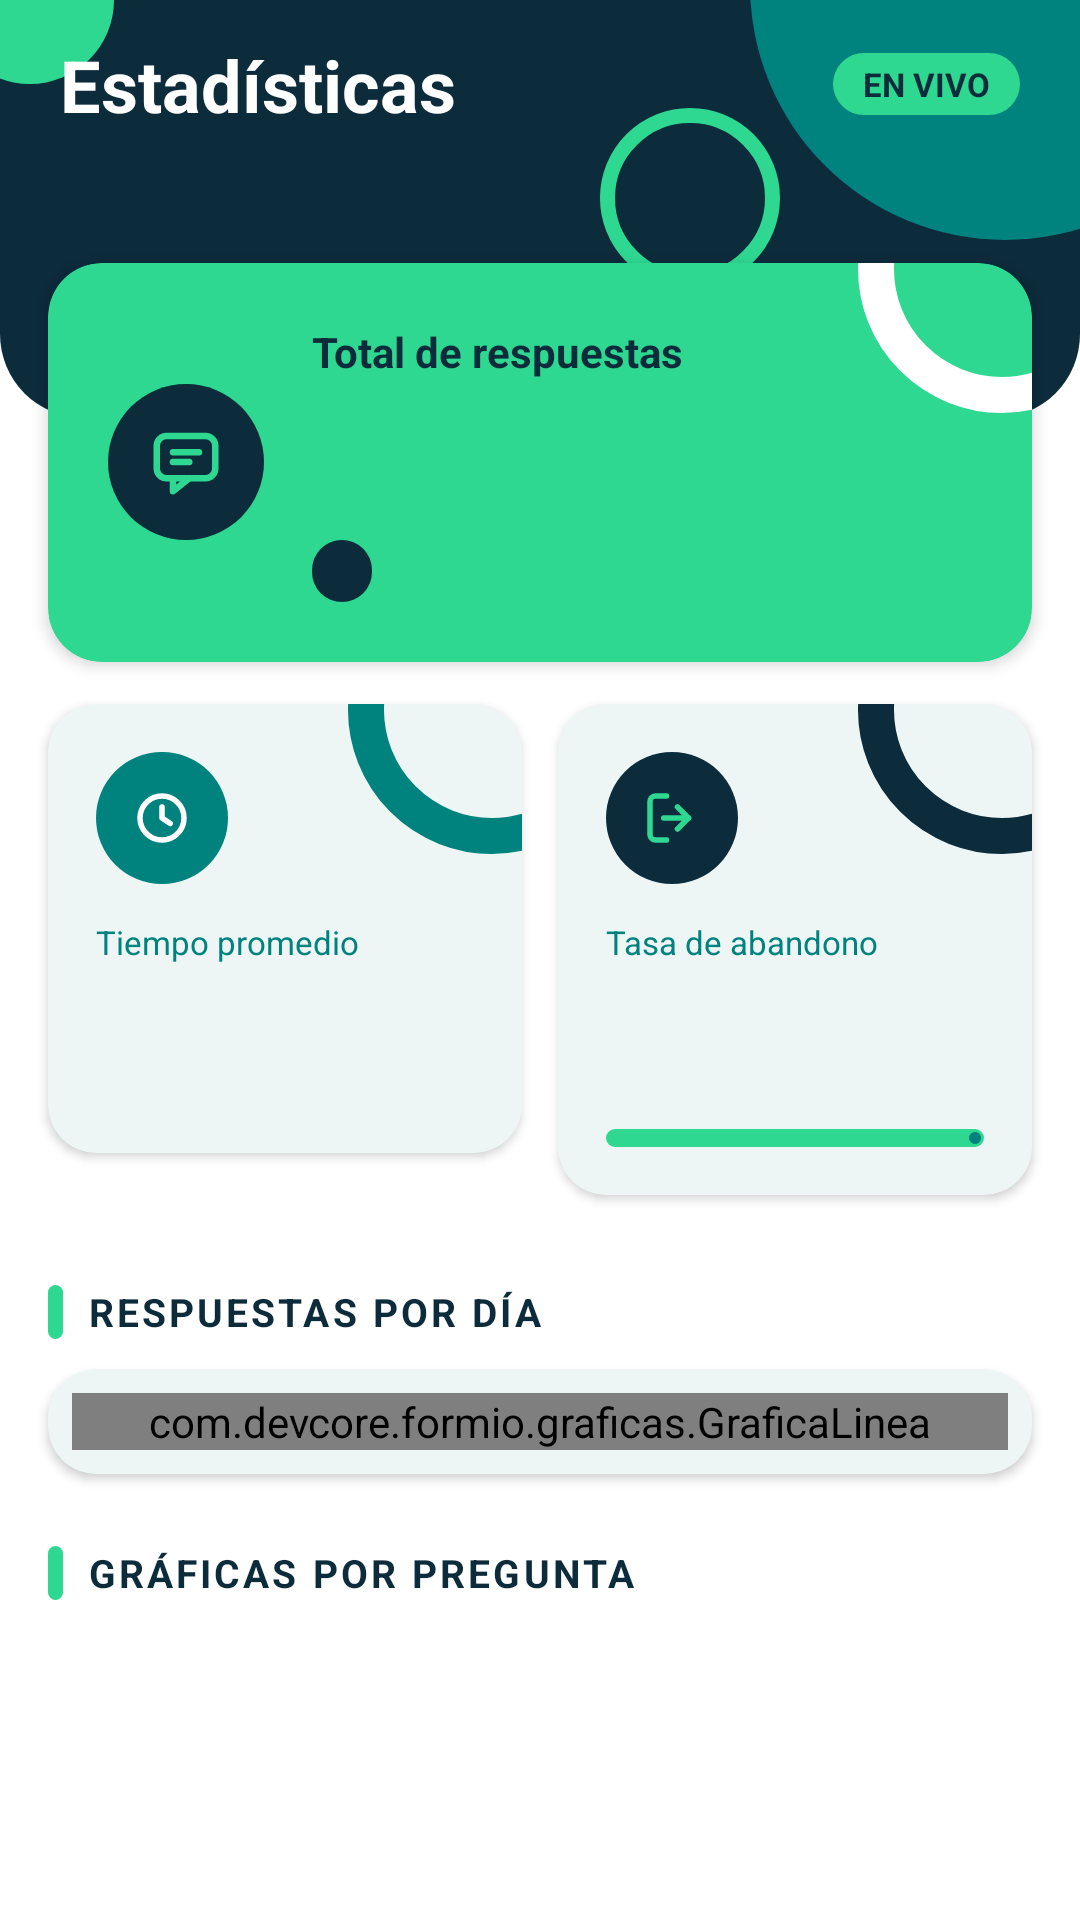

Screen size 1080 × 1920. Icon name, then its center in pixels as (x,y):
reloj: (162,818)
salir: (672,818)
